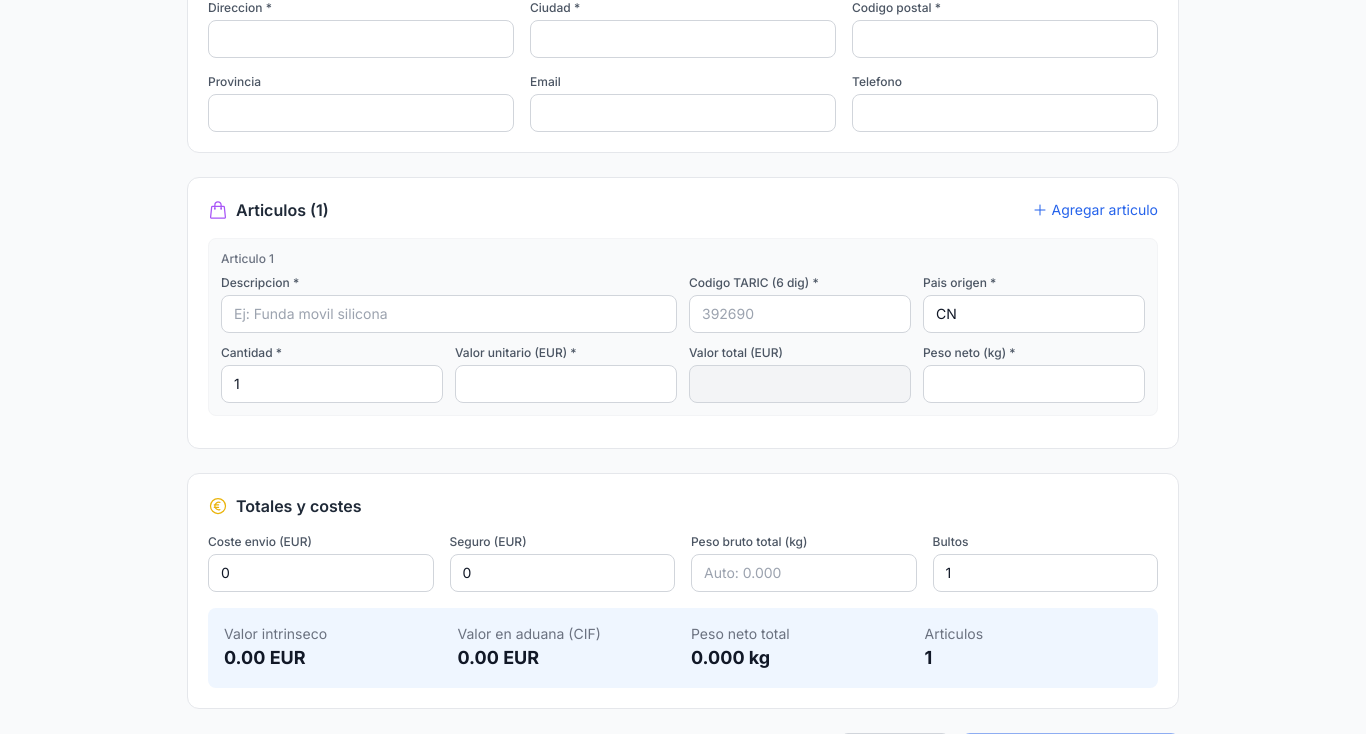
Test: H7DirectForm › Items - gestión y auto-cálculo › auto-calcula totalValue cuando cambia quantity
(page scrolled)
Type "25.00" into the number field below "Valor unitario (EUR) *" at (566, 384), box [455,365,677,403]
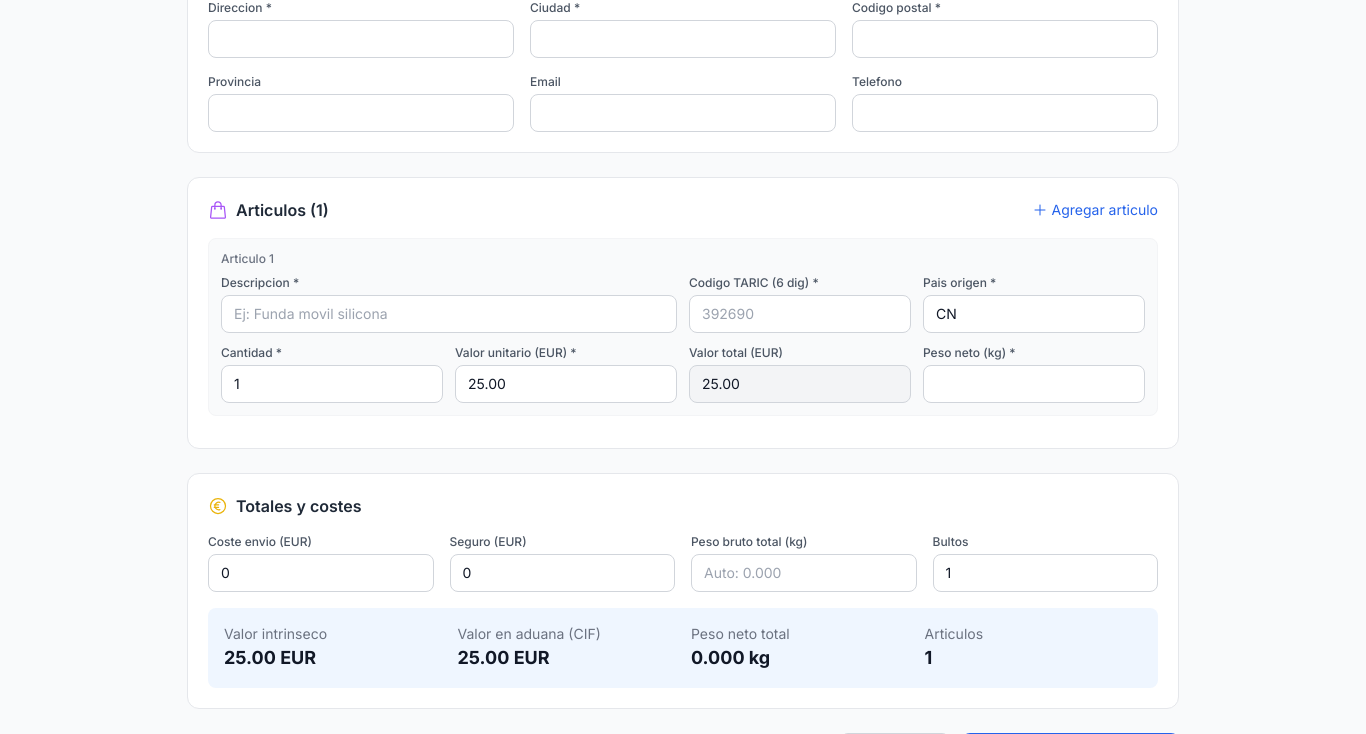
Replace the text in the number field below "Cantidad *" with "3" at (332, 384), box [221,365,443,403]
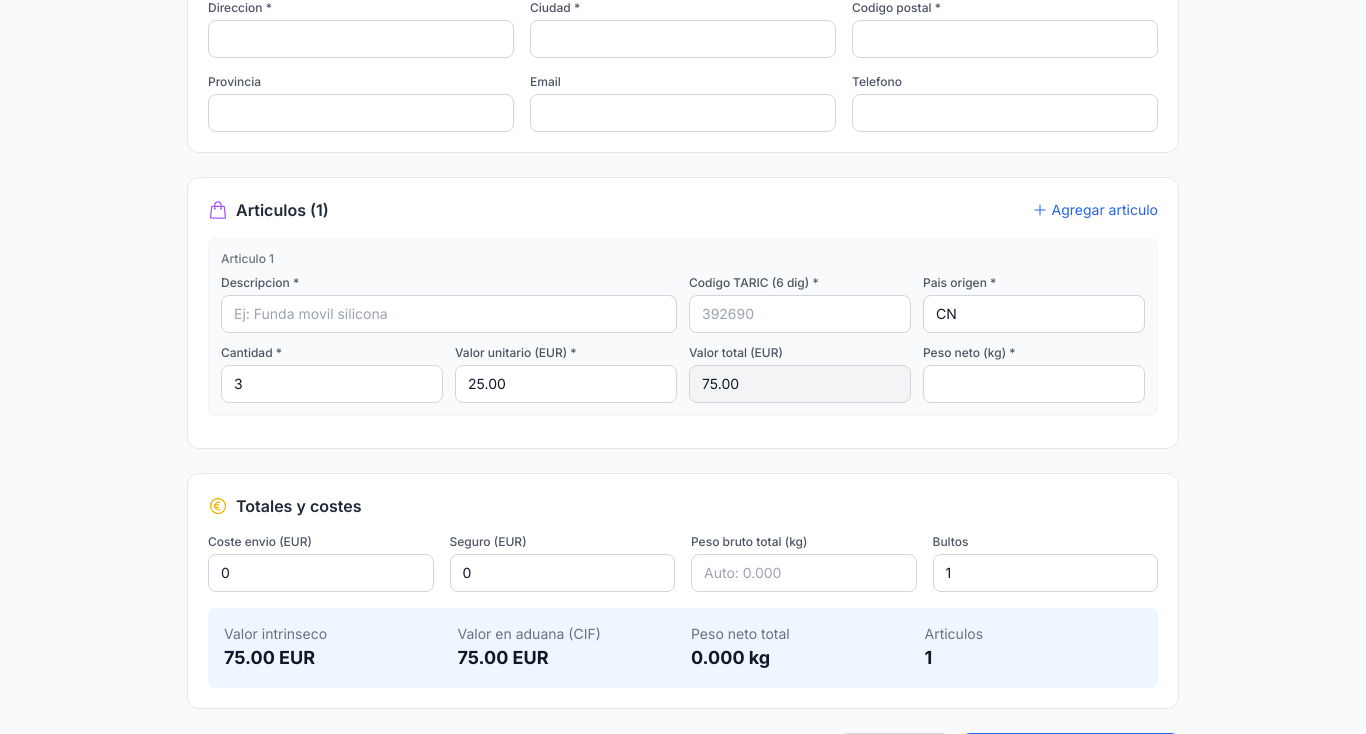
Result: the number field below "Valor total (EUR)" holds "75.00" at [689,365,911,403]
